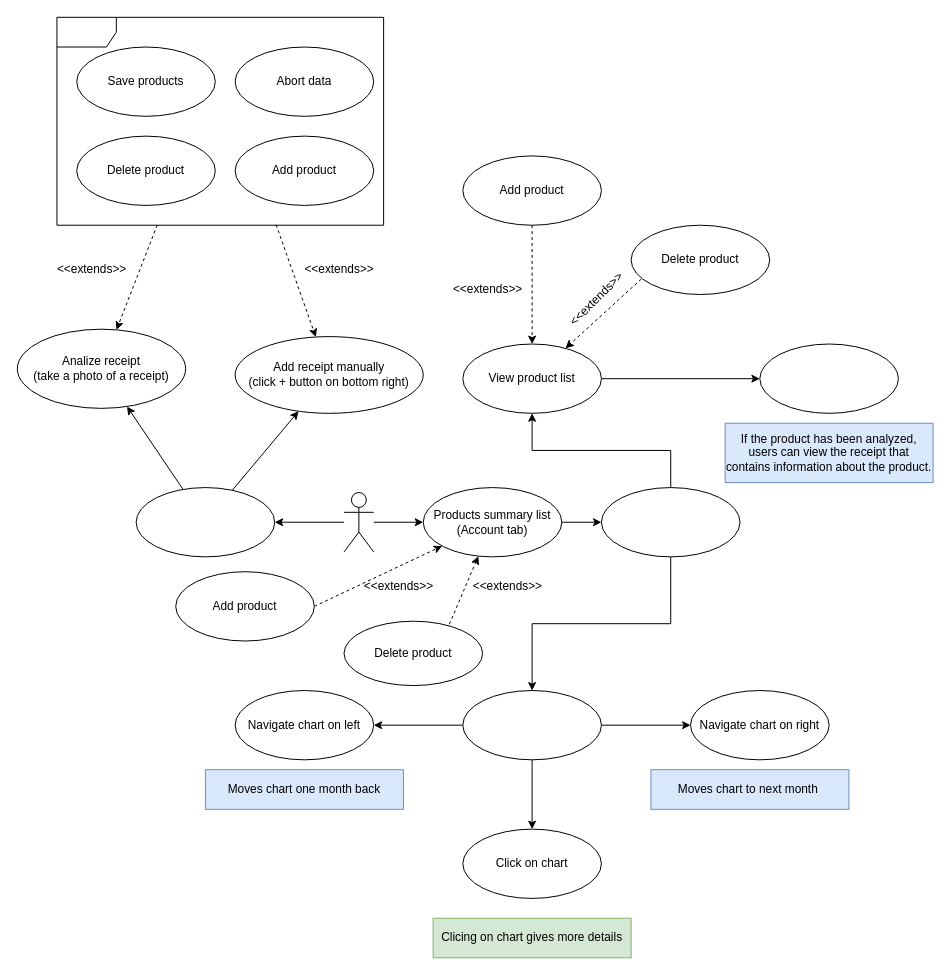
This 950x975 diagram has some shape labels left out. Each missing label, with the centre of its shape:
Actions: pixel 220 120
Add receipt (Add receipt tab): pixel 205 522
App user: pixel 358 522
Click on product form list: pixel 670 522
View chart: pixel 531 725
View receipt: pixel 828 378
